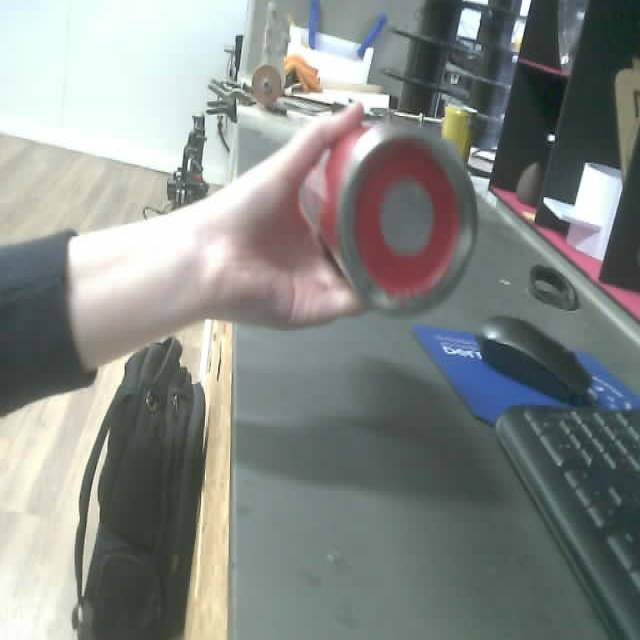water bottle: (294, 112, 480, 317)
